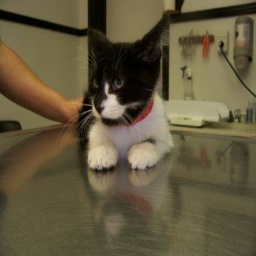cat: (67, 12, 183, 170)
